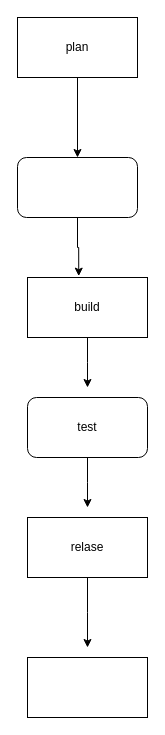
Some shapes in this 165 by 735 pixel diagram are drawn without their labels. Each missing label, with the centre of its shape:
depoly: pixel 87 687
develop: pixel 77 187
